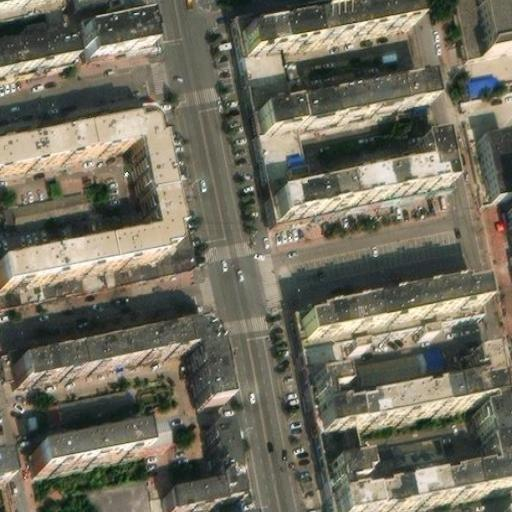building: (234, 0, 397, 214), (0, 182, 197, 299), (328, 402, 512, 512), (305, 300, 485, 404), (17, 318, 227, 401), (311, 346, 498, 428), (278, 136, 456, 212), (3, 311, 210, 372), (301, 279, 483, 332), (264, 75, 437, 129), (161, 423, 242, 512), (84, 114, 169, 190), (104, 185, 178, 261), (36, 421, 144, 464), (8, 174, 91, 223), (321, 421, 373, 490), (360, 342, 445, 382), (83, 9, 150, 48), (484, 121, 512, 187), (482, 0, 512, 46), (140, 414, 179, 444), (468, 67, 512, 93), (0, 447, 16, 479), (344, 505, 378, 512), (300, 305, 315, 315)
